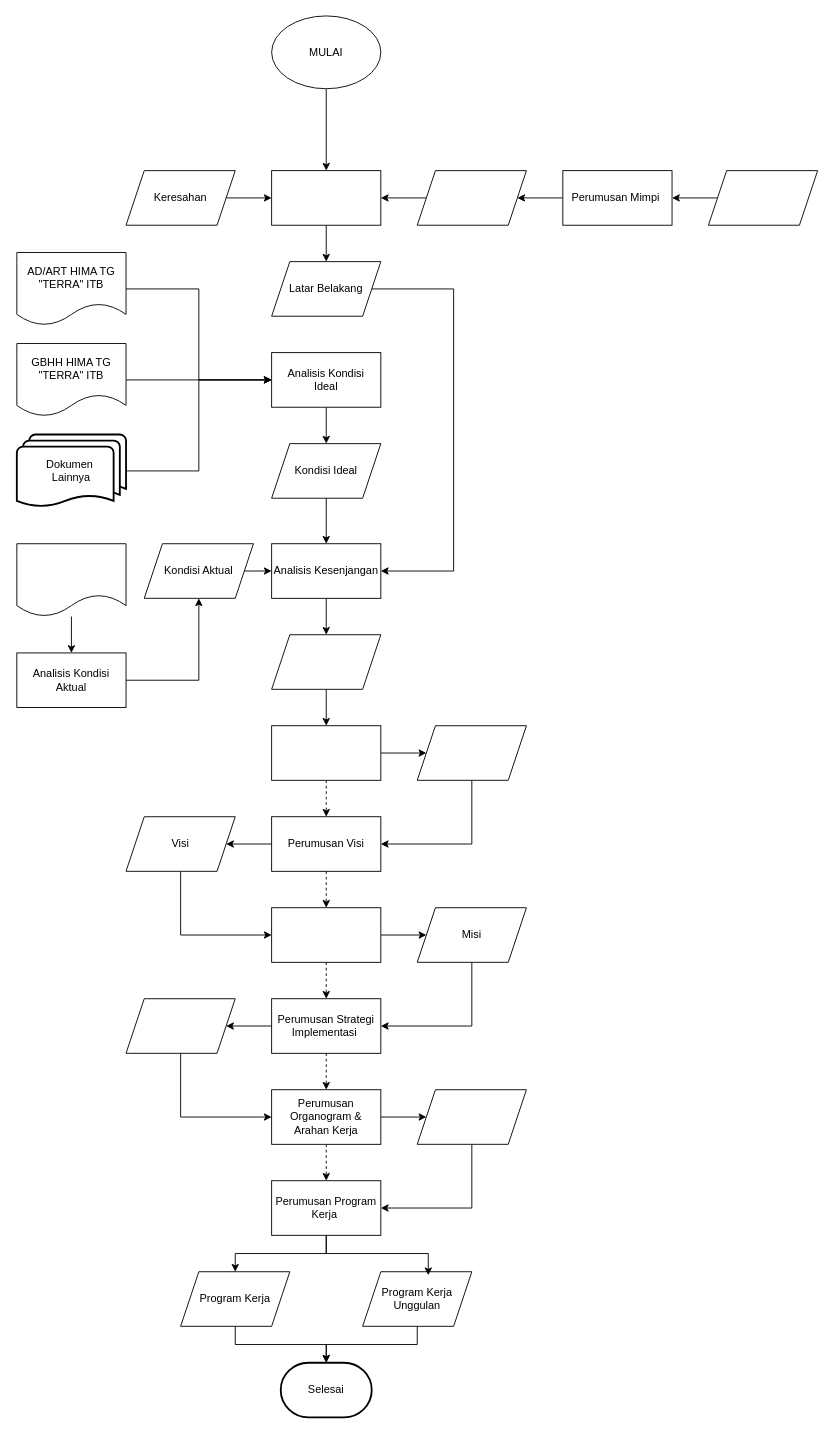
The diagram is 834 pixels wide and 1434 high, and some of its shapes have lost their labels. Each missing label, with the centre of its shape:
Ambisi: point (471, 197)
Kebutuhan: point (471, 752)
Kesenjangan: point (326, 661)
Kuisioner Kondisi Aktual Massa: point (71, 580)
Mimpi: point (763, 197)
Organogram & Arahan Kerja: point (471, 1116)
Perumusan Kebutuhan: point (326, 752)
Perumusan Latar Belakang: point (326, 197)
Perumusan Misi: point (326, 934)
Strategi Implementasi: point (180, 1025)
